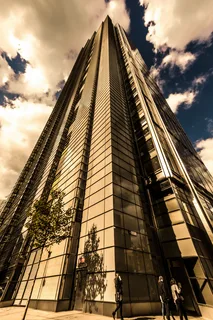high_rise_building: (58, 13, 192, 287)
